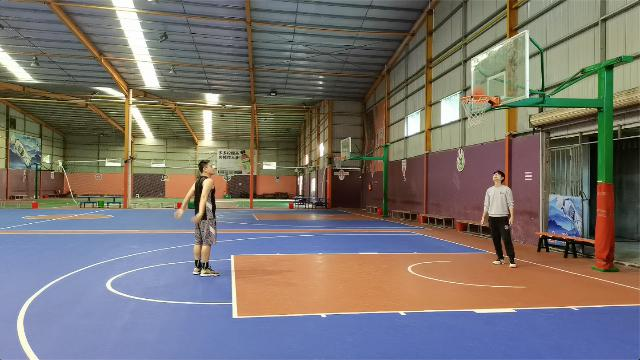ball: (473, 89, 485, 100)
